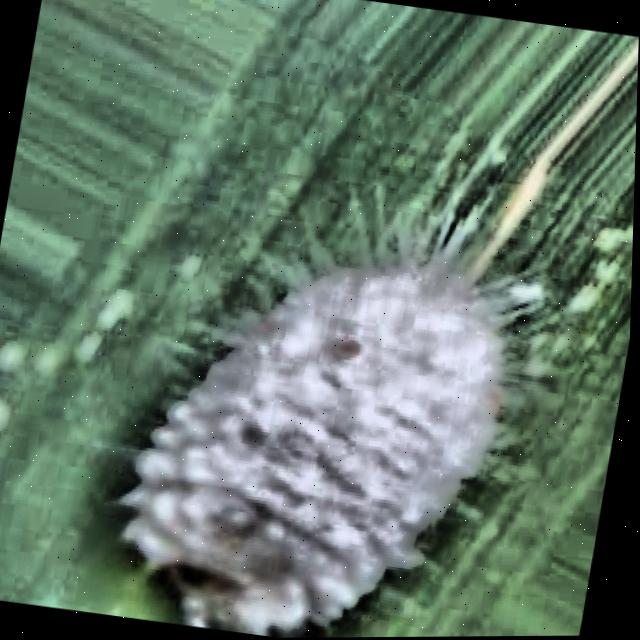Mealy-bug: (0, 144, 596, 640)
